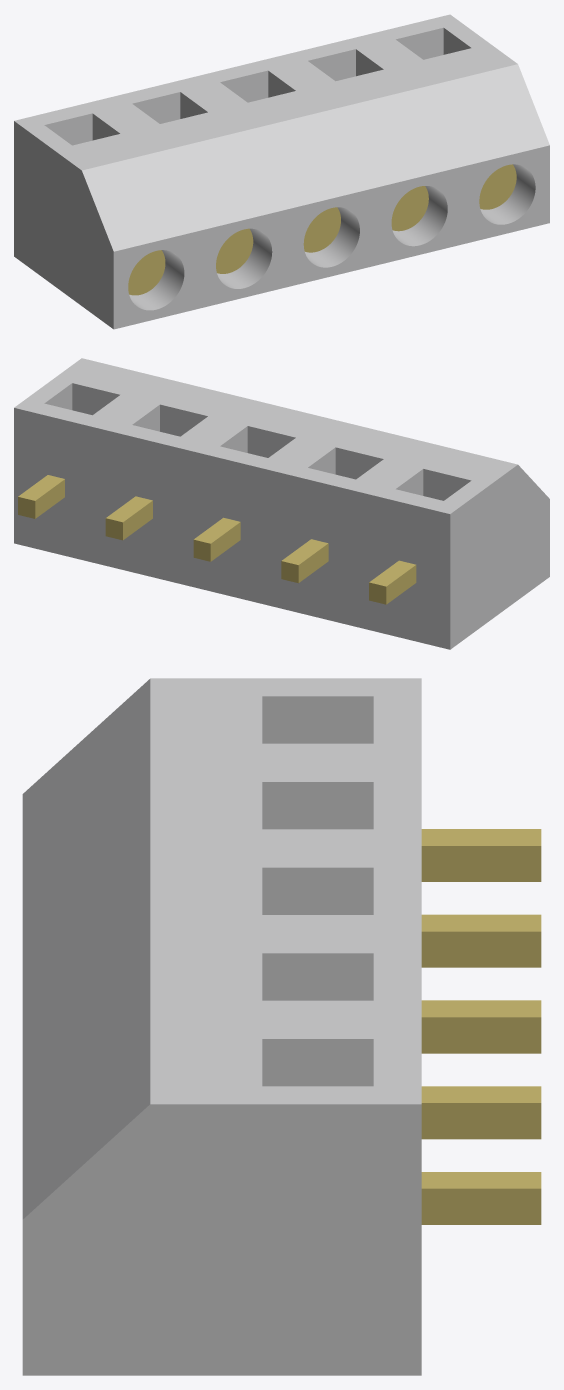
File: screw_terminal_5_08_5pin.glb
The picture shows the model from 3 angles, top to bottom: view 1: azimuth 30°, elevation 25°; view 2: azimuth 150°, elevation 25°; view 3: azimuth 270°, elevation 25°; orthographic projection. The views are drawn at different scales.
Parts seen in each view (by area): view 1: world; view 2: world; view 3: world.
Part boxes in pixels (x1,y1,x2,y2): world: [14, 14, 549, 329]; world: [14, 358, 549, 649]; world: [22, 678, 541, 1375].
Size of the model in its own units: 25.24 by 7.5 by 13.
